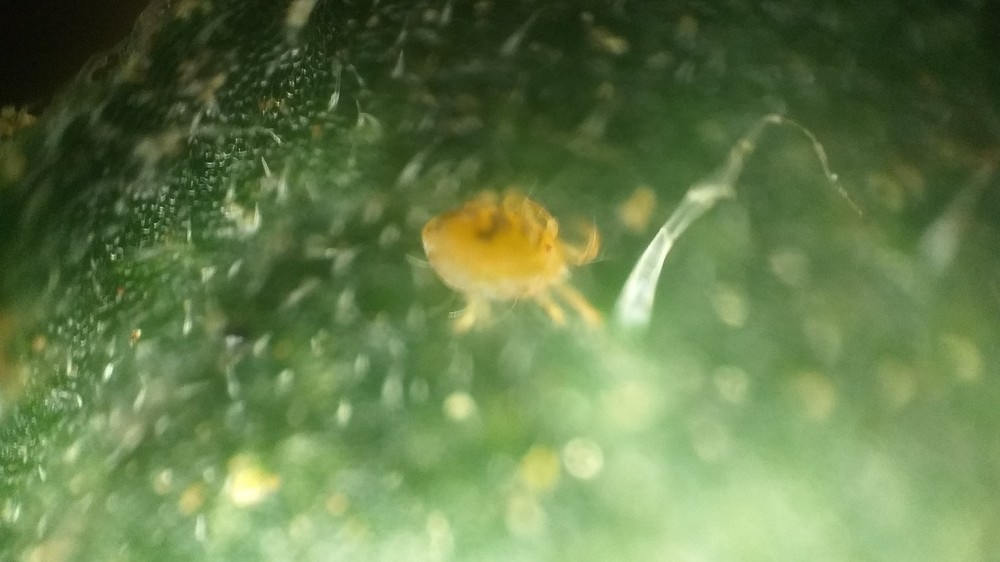Aracnido Rojo: (383, 178, 622, 352)
